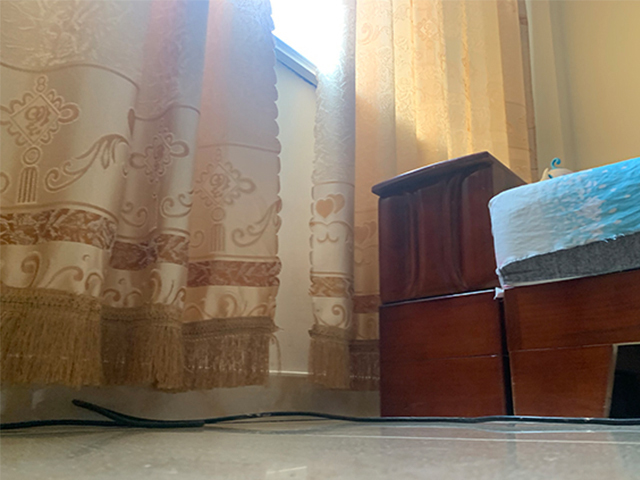curtain: (1, 1, 281, 391), (308, 1, 537, 392)
sofa: (371, 151, 640, 420)
wire: (1, 398, 640, 430)
